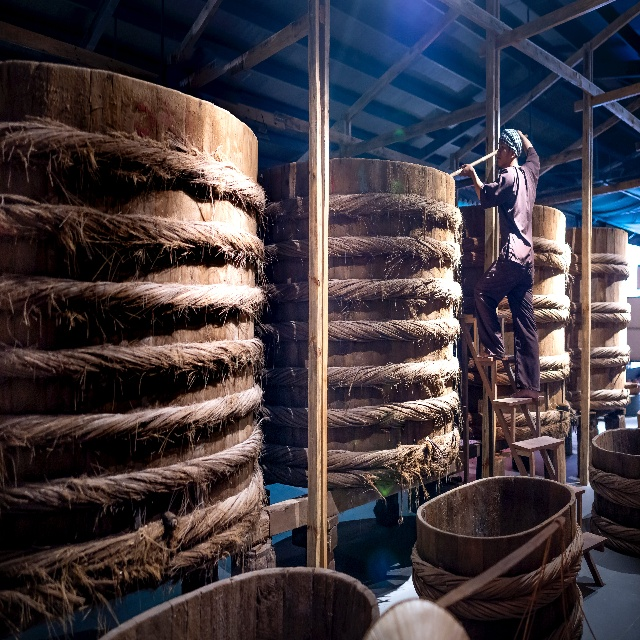Sin_guantes: (459, 164, 473, 177)
